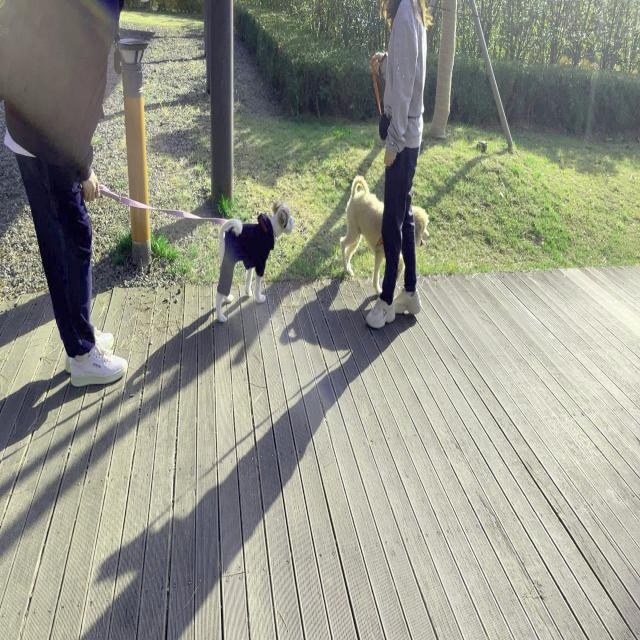Leashed_Dog: (52, 121, 296, 325), (339, 50, 431, 298)
